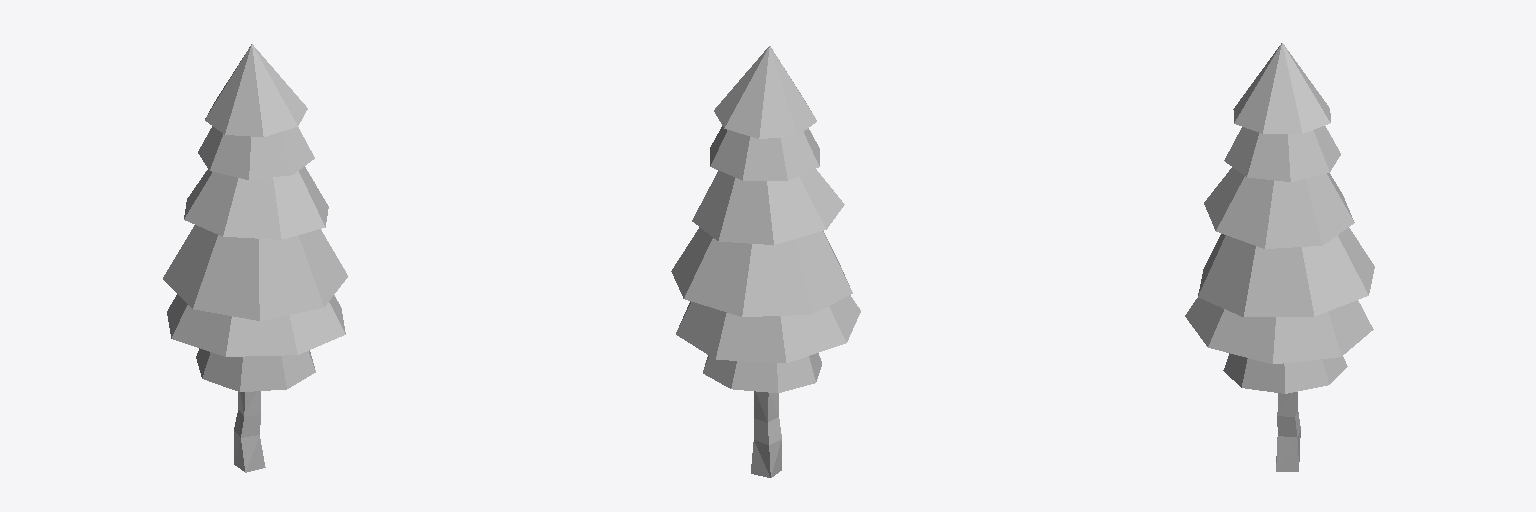
The model's file is tanne2.obj.
3 views of the same model, side by side, from view 1: azimuth 30°, elevation 25°; view 2: azimuth 150°, elevation 25°; view 3: azimuth 270°, elevation 25° (orthographic).
Parts seen in each view (by area): view 1: Cylinder.002_Cylinder.004, Cylinder.003_Cylinder.005, Cylinder.001_Cylinder.003, Cylinder.005_Cylinder.007, Cylinder.004_Cylinder.006, Cylinder_Cylinder.001, Plane.003; view 2: Cylinder.002_Cylinder.004, Cylinder.003_Cylinder.005, Cylinder.001_Cylinder.003, Cylinder.005_Cylinder.007, Cylinder.004_Cylinder.006, Cylinder_Cylinder.001, Plane.003; view 3: Cylinder.002_Cylinder.004, Cylinder.003_Cylinder.005, Cylinder.001_Cylinder.003, Cylinder.005_Cylinder.007, Cylinder.004_Cylinder.006, Cylinder_Cylinder.001, Plane.003.
Boxes of the visible parts, box(x1,y1,x2,y2) form: Cylinder.002_Cylinder.004: box(163, 225, 347, 320); Cylinder.003_Cylinder.005: box(184, 166, 328, 239); Cylinder.001_Cylinder.003: box(167, 294, 345, 356); Cylinder.005_Cylinder.007: box(205, 44, 307, 136); Cylinder.004_Cylinder.006: box(198, 126, 314, 179); Cylinder_Cylinder.001: box(196, 348, 315, 391); Plane.003: box(234, 391, 265, 472); Cylinder.002_Cylinder.004: box(671, 227, 852, 316); Cylinder.003_Cylinder.005: box(692, 169, 844, 244); Cylinder.001_Cylinder.003: box(676, 295, 860, 363); Cylinder.005_Cylinder.007: box(714, 46, 816, 138); Cylinder.004_Cylinder.006: box(710, 126, 819, 180); Cylinder_Cylinder.001: box(703, 353, 821, 392); Plane.003: box(751, 391, 781, 477); Cylinder.002_Cylinder.004: box(1198, 228, 1374, 316); Cylinder.003_Cylinder.005: box(1204, 167, 1354, 248); Cylinder.001_Cylinder.003: box(1185, 298, 1373, 364); Cylinder.005_Cylinder.007: box(1233, 43, 1330, 133); Cylinder.004_Cylinder.006: box(1224, 126, 1340, 181); Cylinder_Cylinder.001: box(1223, 353, 1347, 393); Plane.003: box(1276, 392, 1300, 471).
Bounding box in the file's own units: 2.46 × 6.11 × 2.48.